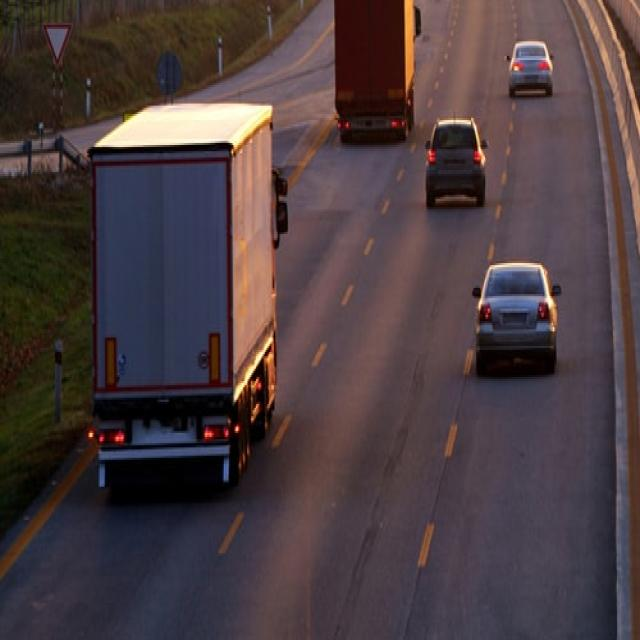car: (473, 260, 560, 368), (426, 116, 488, 209), (506, 39, 554, 97)
van: (87, 100, 288, 488), (334, 0, 421, 145)
